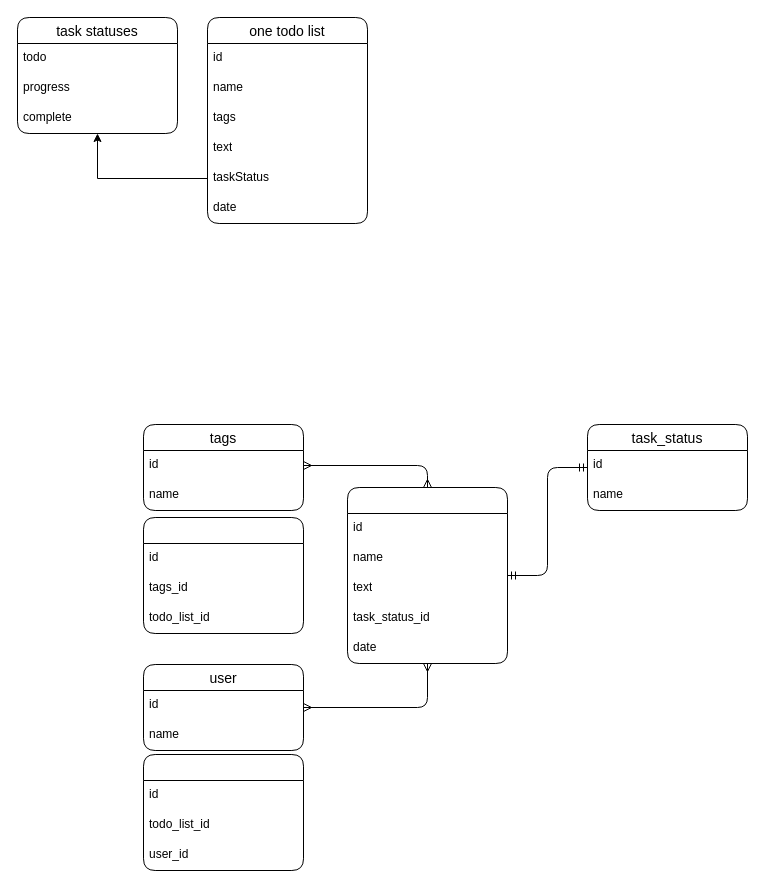
Image size: 765x891. Some labels were removed from this diagram. Each missing label, with the box of its shape:
tags_todo_list: (142, 516, 304, 634)
todo_list: (346, 486, 508, 664)
todo_list_user: (142, 754, 304, 870)
